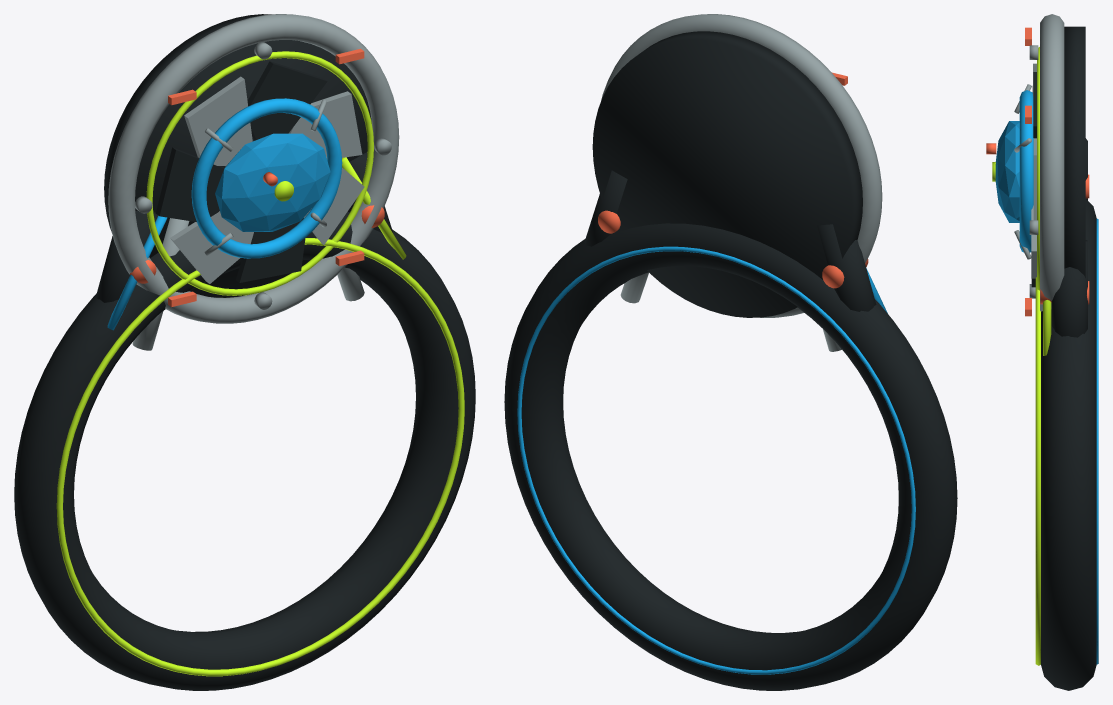
File: aperture-ring.glb
3 views of the same model, side by side, from view 1: azimuth 30°, elevation 25°; view 2: azimuth 150°, elevation 25°; view 3: azimuth 270°, elevation 25° (orthographic). The views are drawn at different scales.
Parts seen in each view (by area): view 1: Ring_Shank_Black_Titanium, Camera_Housing_Outer_Bezel, Camera_Housing_Backplate, Ring_Shank_Front_Inlay, Faceted_Machine_Vision_Lens, Vision_Lens_Bezel, Camera_Housing_Signal_Ring, Aperture_Blade_02, Aperture_Blade_03, Aperture_Blade_04, Aperture_Blade_05, Aperture_Blade_01 (+5 smaller); view 2: Ring_Shank_Black_Titanium, Camera_Housing_Backplate, Camera_Housing_Outer_Bezel, Ring_Shank_Rear_Inlay, Shoulder_Rail_Left_Outer, Shoulder_Rail_Right_Outer; view 3: Ring_Shank_Black_Titanium, Camera_Housing_Outer_Bezel, Camera_Housing_Backplate, Ring_Shank_Front_Inlay, Shoulder_Rail_Right_Outer, Faceted_Machine_Vision_Lens, Vision_Lens_Bezel, Ring_Shank_Rear_Inlay, Camera_Housing_Signal_Ring, Signal_Brace_Right, Aperture_Blade_01, Aperture_Blade_07 (+1 smaller).
Boxes of the visible parts, x1,y1,x2,y2 form: Ring_Shank_Black_Titanium: (14,211,475,690); Camera_Housing_Outer_Bezel: (108,14,399,323); Camera_Housing_Backplate: (104,14,371,297); Ring_Shank_Front_Inlay: (56,238,464,676); Faceted_Machine_Vision_Lens: (215,133,330,231); Vision_Lens_Bezel: (191,98,342,258); Camera_Housing_Signal_Ring: (146,51,373,295); Aperture_Blade_02: (247,61,327,140); Aperture_Blade_03: (184,76,252,166); Aperture_Blade_04: (155,147,224,221); Aperture_Blade_05: (170,211,253,283); Aperture_Blade_01: (288,91,362,157); Ring_Shank_Black_Titanium: (504,223,957,690); Camera_Housing_Backplate: (592,31,862,317); Camera_Housing_Outer_Bezel: (601,14,882,317); Ring_Shank_Rear_Inlay: (517,246,915,674); Shoulder_Rail_Left_Outer: (817,224,876,311); Shoulder_Rail_Right_Outer: (584,170,627,246); Ring_Shank_Black_Titanium: (1041,199,1096,690); Camera_Housing_Outer_Bezel: (1040,14,1064,311); Camera_Housing_Backplate: (1064,26,1085,277); Ring_Shank_Front_Inlay: (1035,277,1040,665); Shoulder_Rail_Right_Outer: (1051,240,1087,337); Faceted_Machine_Vision_Lens: (995,121,1019,222); Vision_Lens_Bezel: (1019,90,1033,252); Ring_Shank_Rear_Inlay: (1096,218,1098,664); Camera_Housing_Signal_Ring: (1037,47,1039,290); Signal_Brace_Right: (1043,300,1051,355); Aperture_Blade_01: (1033,138,1036,220); Aperture_Blade_07: (1031,205,1036,278).
Size of the model in its own units: 5.08 by 7.18 by 1.14.
